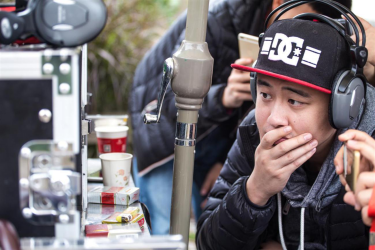face_mask: (253, 71, 328, 159)
